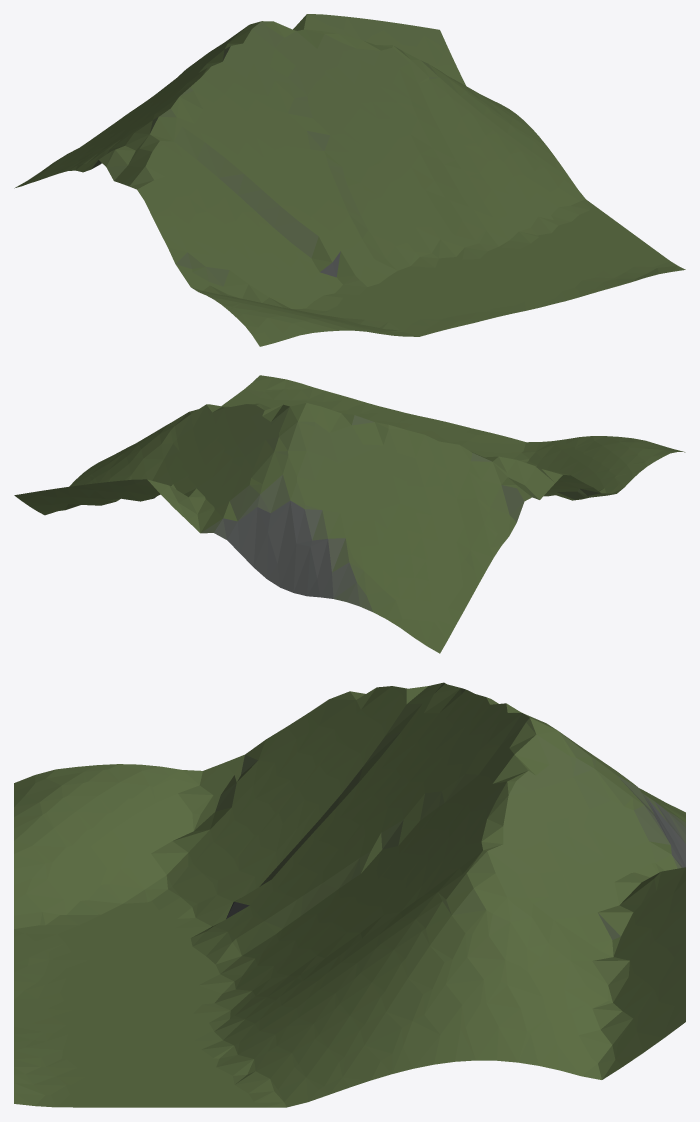
File: Ground_-3_-4.glb
3 views of the same model, one above another, from view 1: azimuth 30°, elevation 25°; view 2: azimuth 150°, elevation 25°; view 3: azimuth 270°, elevation 25° (orthographic). The views are drawn at different scales.
Visible parts, largest first — view 1: Ground_-3_-4; view 2: Ground_-3_-4; view 3: Ground_-3_-4.
Part boxes in pixels (bbox=[...]): Ground_-3_-4: bbox=[14, 14, 685, 346]; Ground_-3_-4: bbox=[14, 375, 685, 653]; Ground_-3_-4: bbox=[14, 682, 685, 1107].
Size of the model in its own units: 768 by 294 by 768.
